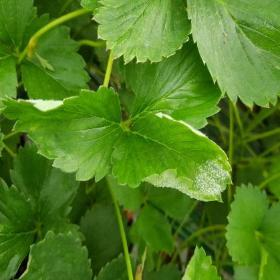Powdery Mildew Leaf: (0, 85, 125, 183), (110, 112, 233, 203)
